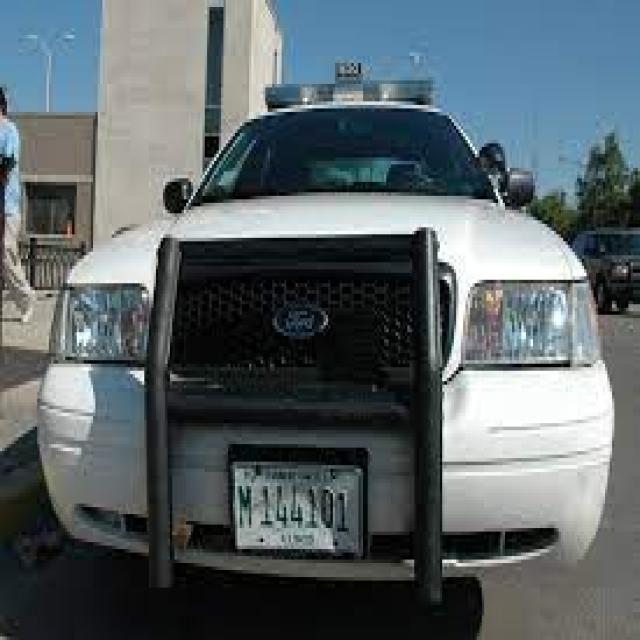Police: (31, 49, 624, 636)
